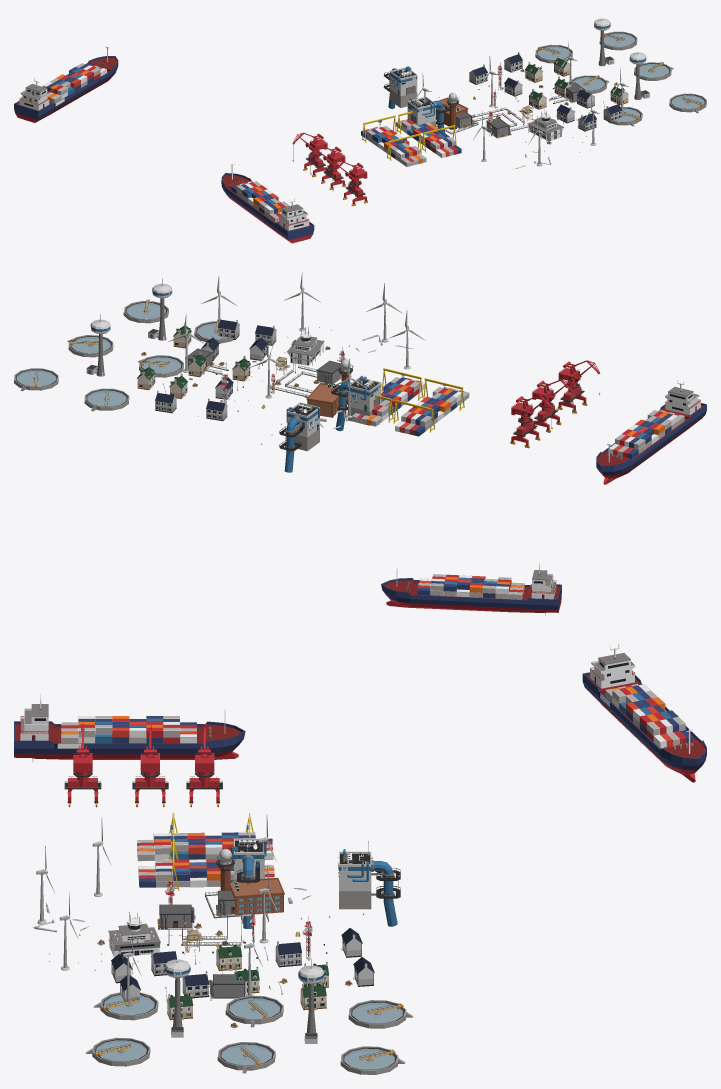
The model's file is Airports_4.glb.
3 renders of one model, top to bottom at view 1: azimuth 30°, elevation 25°; view 2: azimuth 150°, elevation 25°; view 3: azimuth 270°, elevation 25°, orthographic. The views are drawn at different scales.
Parts seen in each view (by area): view 1: A_SeaPort__2, A_WaterTreatment__0, A_VillageAirport__0, A_WaterTreatment__1, A_SeaPort__2_1, A_TurbineAirport__0, A_UndergroundStorage__0, A_WeatherStation__0; view 2: A_SeaPort__2, A_WaterTreatment__0, A_VillageAirport__0, A_WaterTreatment__1, A_SeaPort__2_1, A_TurbineAirport__0, A_WeatherStation__0, A_UndergroundStorage__0; view 3: A_SeaPort__2, A_WaterTreatment__0, A_VillageAirport__0, A_WaterTreatment__1, A_SeaPort__2_1, A_TurbineAirport__0, A_WeatherStation__0, A_UndergroundStorage__0.
Part boxes in pixels (<box>): A_SeaPort__2: <box>14,46,564,243</box>; A_WaterTreatment__0: <box>383,18,706,133</box>; A_VillageAirport__0: <box>469,52,628,131</box>; A_WaterTreatment__1: <box>536,33,705,121</box>; A_SeaPort__2_1: <box>292,111,456,184</box>; A_TurbineAirport__0: <box>413,41,629,169</box>; A_UndergroundStorage__0: <box>456,82,585,137</box>; A_WeatherStation__0: <box>436,92,468,129</box>; A_SeaPort__2: <box>287,327,706,615</box>; A_WaterTreatment__0: <box>14,278,381,472</box>; A_VillageAirport__0: <box>137,319,276,420</box>; A_WaterTreatment__1: <box>15,302,228,406</box>; A_SeaPort__2_1: <box>375,368,573,448</box>; A_TurbineAirport__0: <box>168,272,425,428</box>; A_WeatherStation__0: <box>306,359,353,417</box>; A_UndergroundStorage__0: <box>185,348,341,385</box>; A_SeaPort__2: <box>14,644,706,957</box>; A_WaterTreatment__0: <box>85,838,413,1074</box>; A_VillageAirport__0: <box>111,928,374,1020</box>; A_WaterTreatment__1: <box>94,994,404,1069</box>; A_SeaPort__2_1: <box>132,724,253,890</box>; A_TurbineAirport__0: <box>32,814,311,1001</box>; A_WeatherStation__0: <box>215,848,284,915</box>; A_UndergroundStorage__0: <box>159,891,249,997</box>.
Size of the model in its own units: 1153 by 140 by 840.
30 materials, 23 textured.
